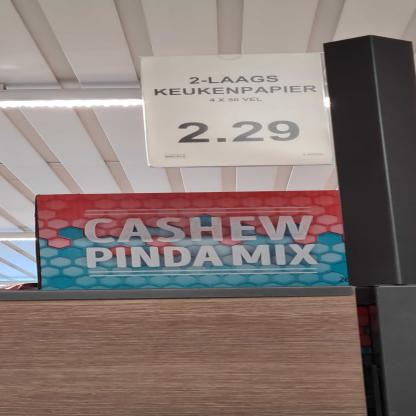prtg: (139, 53, 334, 168)
